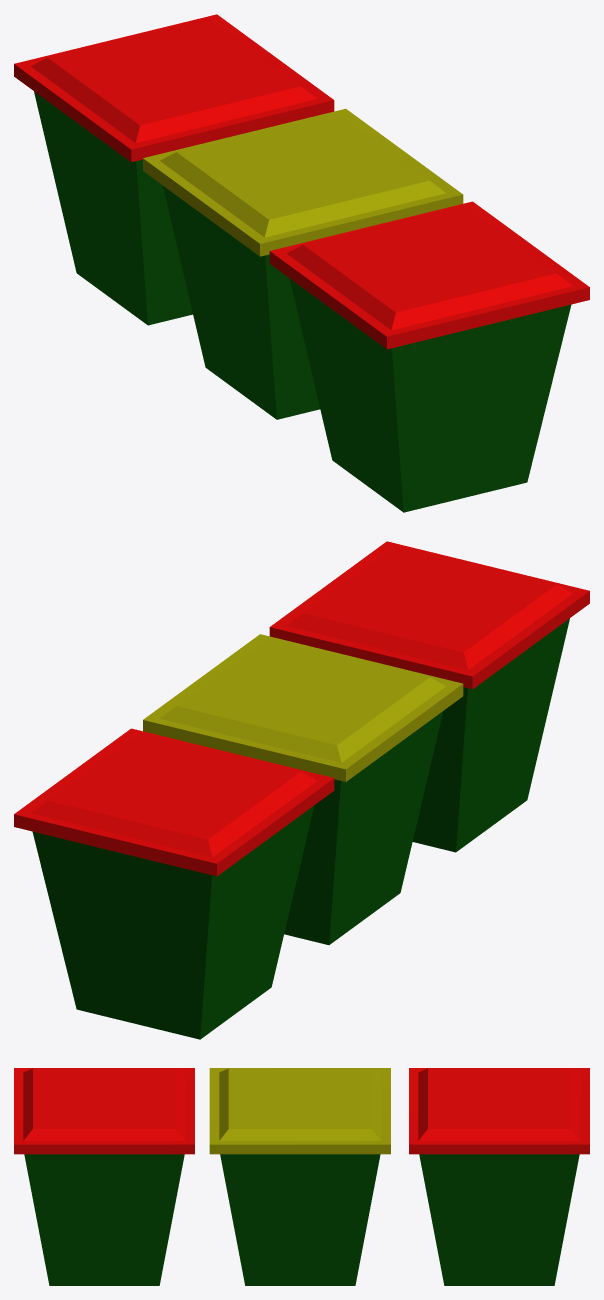
The model's file is Prop_Bins_Mod.fbx.
The picture shows the model from 3 angles, top to bottom: view 1: azimuth 30°, elevation 25°; view 2: azimuth 150°, elevation 25°; view 3: azimuth 270°, elevation 25°; orthographic projection. The views are drawn at different scales.
Parts seen in each view (by area): view 1: Wastebins; view 2: Wastebins; view 3: Wastebins.
Boxes of the visible parts, left/top/right/bottom form: Wastebins: left=14, top=14, right=589, bottom=512; Wastebins: left=14, top=541, right=589, bottom=1039; Wastebins: left=14, top=1068, right=589, bottom=1285.
Size of the model in its own units: 0.8874 by 0.8868 by 2.82.
